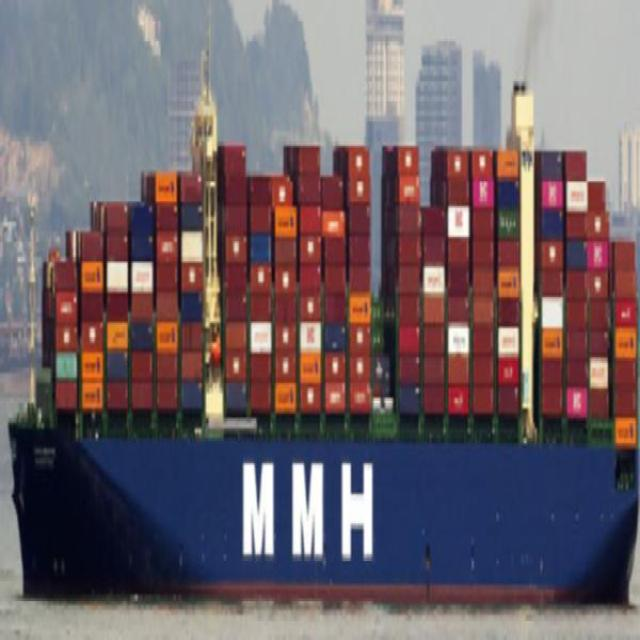Container Ship: (6, 19, 636, 608)
